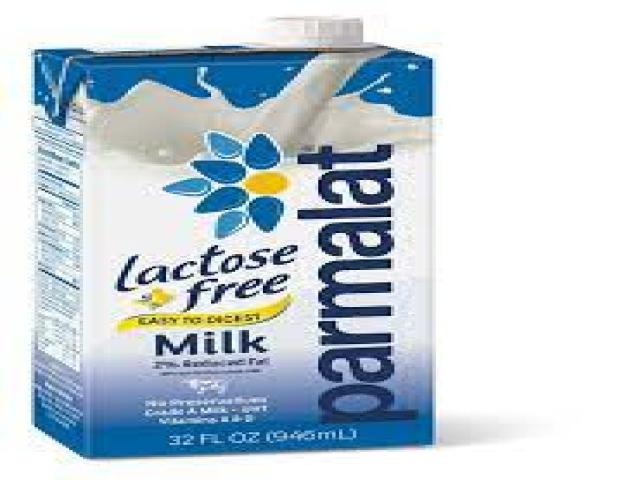drink_box: (18, 5, 452, 468)
